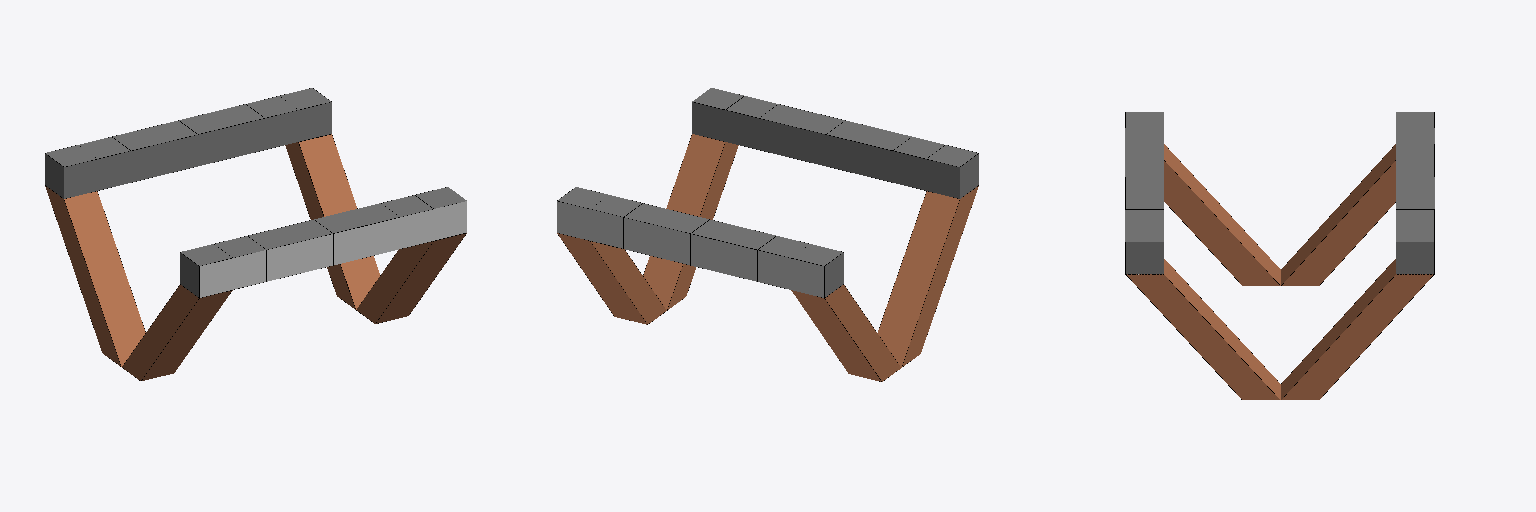
3 views of the same model, side by side, from view 1: azimuth 30°, elevation 25°; view 2: azimuth 150°, elevation 25°; view 3: azimuth 270°, elevation 25° (orthographic).
Size of the model in its own units: 2 by 1.13 by 2.
Materials: 1 (1 with a texture image).